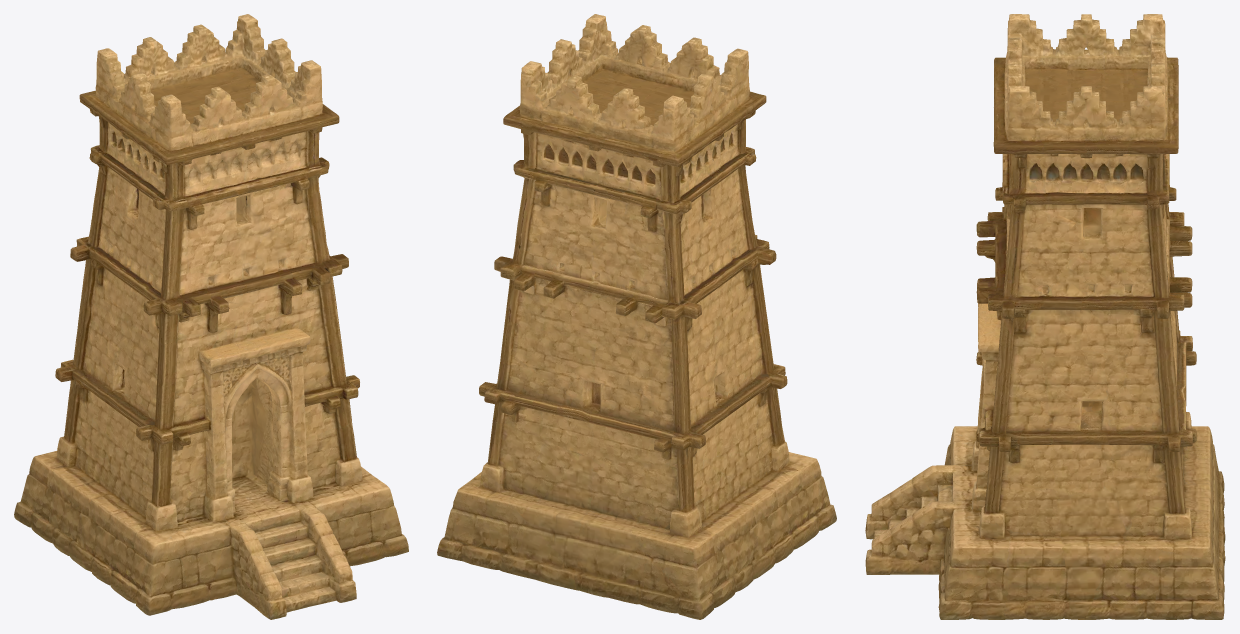
Rendered from Watchtower.glb.
3 views of the same model, side by side, from view 1: azimuth 30°, elevation 25°; view 2: azimuth 150°, elevation 25°; view 3: azimuth 270°, elevation 25° (orthographic). The views are drawn at different scales.
Size of the model in its own units: 1.1 by 1.9 by 1.24.
1 material, 1 textured.
